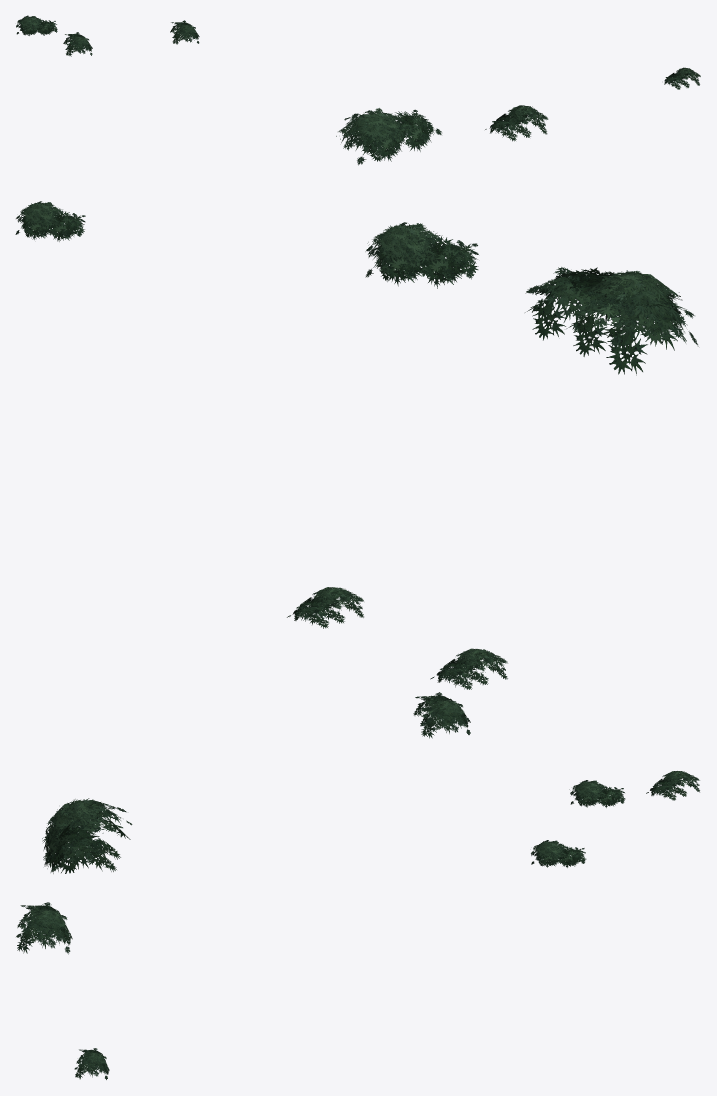
The model's file is zhibei05.fbx.
The picture shows the model from 3 angles, top to bottom: view 1: azimuth 30°, elevation 25°; view 2: azimuth 150°, elevation 25°; view 3: azimuth 270°, elevation 25°; orthographic projection. The views are drawn at different scales.
Parts seen in each view (by area): view 1: zhibei05; view 2: zhibei05; view 3: zhibei05.
Part boxes in pixels (x1,y1,x2,y2): zhibei05: [16, 15, 700, 165]; zhibei05: [15, 201, 698, 738]; zhibei05: [16, 771, 699, 1079].
Bounding box in the file's own units: 4619 × 547 × 4424.
